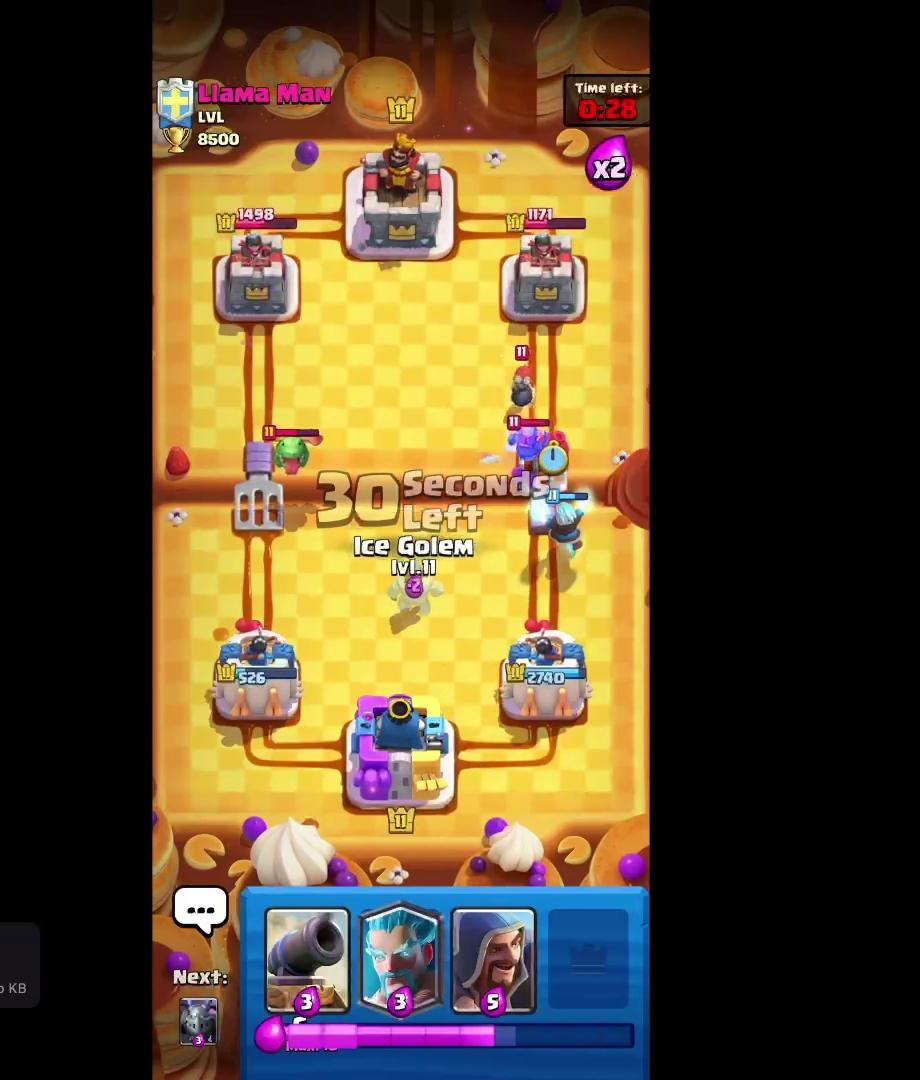Baby Dragon: (250, 394, 328, 488)
Bomber: (498, 344, 550, 406)
